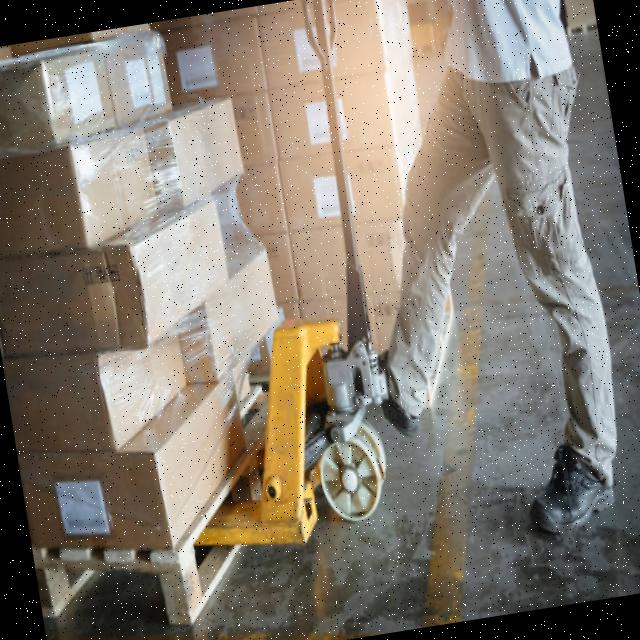Wooden-Pallets: (33, 543, 237, 626)
